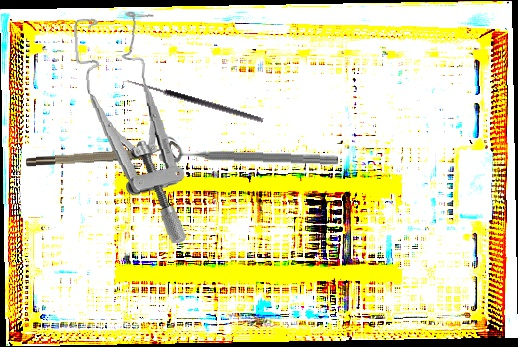Fixation Ring: (158, 134, 339, 171), (25, 140, 181, 170)
Hook Surgical: (121, 77, 264, 130)
Speculum: (70, 7, 191, 250)
